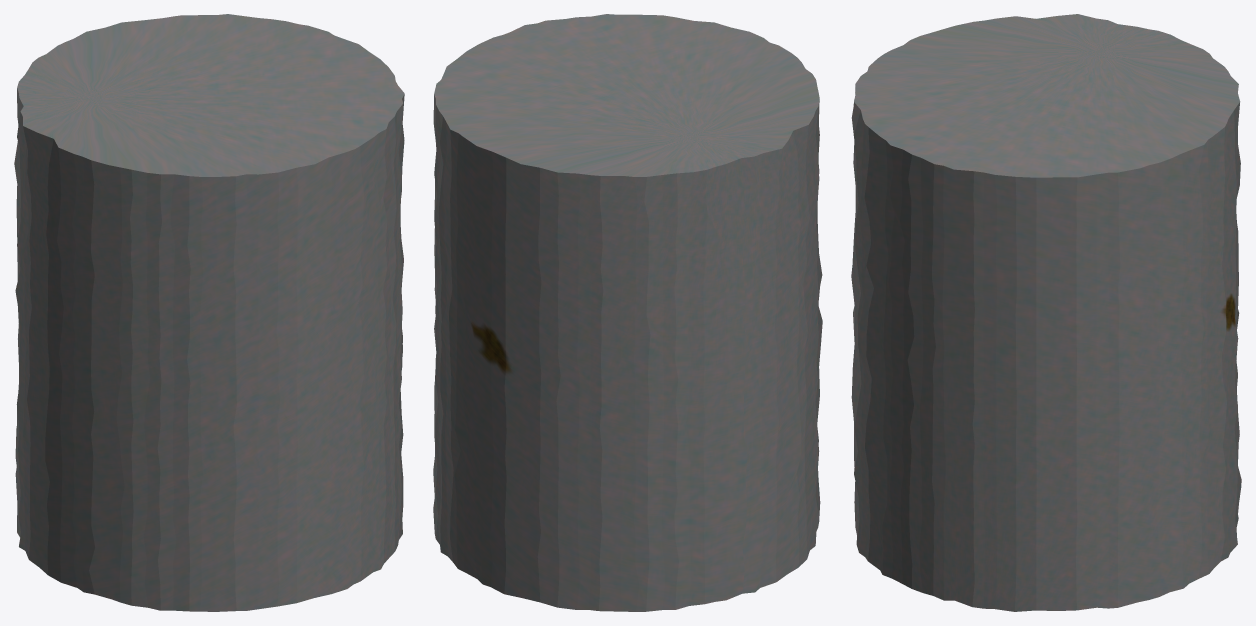
The model's file is barrel_40.dae.
The picture shows the model from 3 angles, left to right: view 1: azimuth 30°, elevation 25°; view 2: azimuth 150°, elevation 25°; view 3: azimuth 270°, elevation 25°; orthographic projection.
Parts seen in each view (by area): view 1: Cylinder; view 2: Cylinder; view 3: Cylinder.
Boxes of the visible parts, x1,y1,x2,y2 form: Cylinder: (14,14,404,611); Cylinder: (433,14,822,611); Cylinder: (851,14,1241,611).
Size of the model in its own units: 0.8195 by 0.8148 by 1.
Materials: 1 (1 with a texture image).
